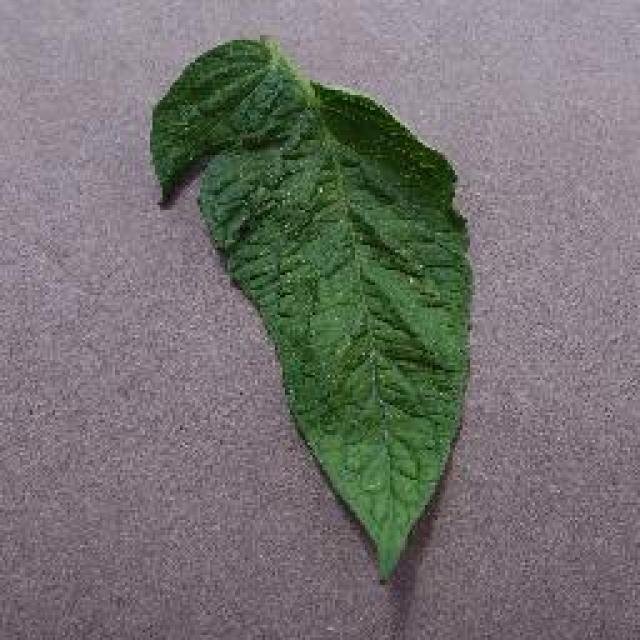Tomato___Spider_mites Two-spotted_spider_mite: (152, 40, 468, 578)
